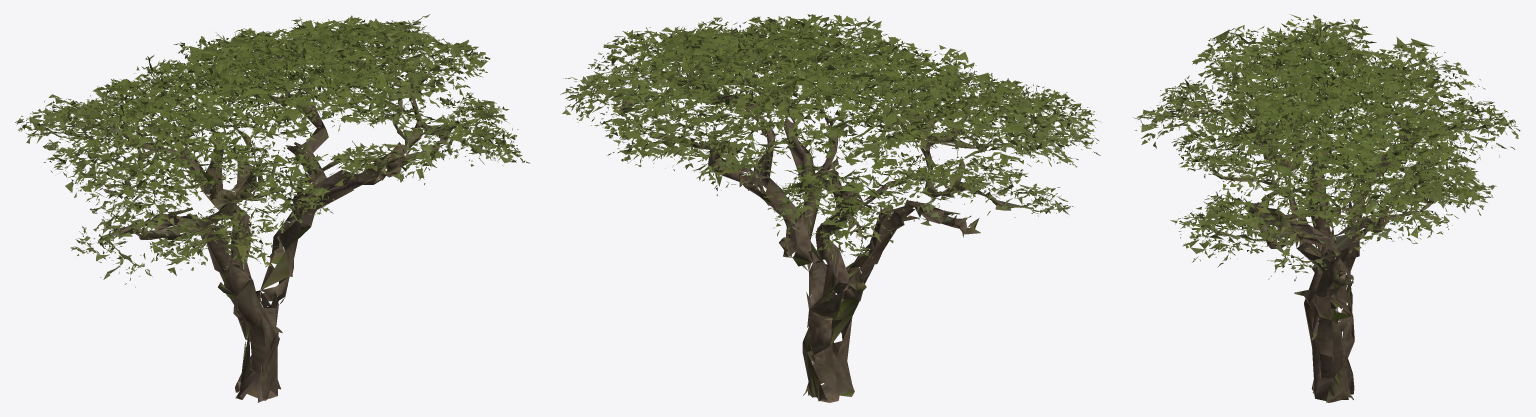
Rendered from acacia.glb.
3 views of the same model, side by side, from view 1: azimuth 30°, elevation 25°; view 2: azimuth 150°, elevation 25°; view 3: azimuth 270°, elevation 25° (orthographic). The views are drawn at different scales.
Visible parts, largest first — view 1: Mesh_0; view 2: Mesh_0; view 3: Mesh_0.
Part boxes in pixels (bbox=[...]): Mesh_0: bbox=[15, 14, 530, 402]; Mesh_0: bbox=[560, 14, 1100, 402]; Mesh_0: bbox=[1133, 14, 1520, 402].
Bounding box in the file's own units: 4.45 × 3.29 × 3.54.
1 material, 1 textured.
